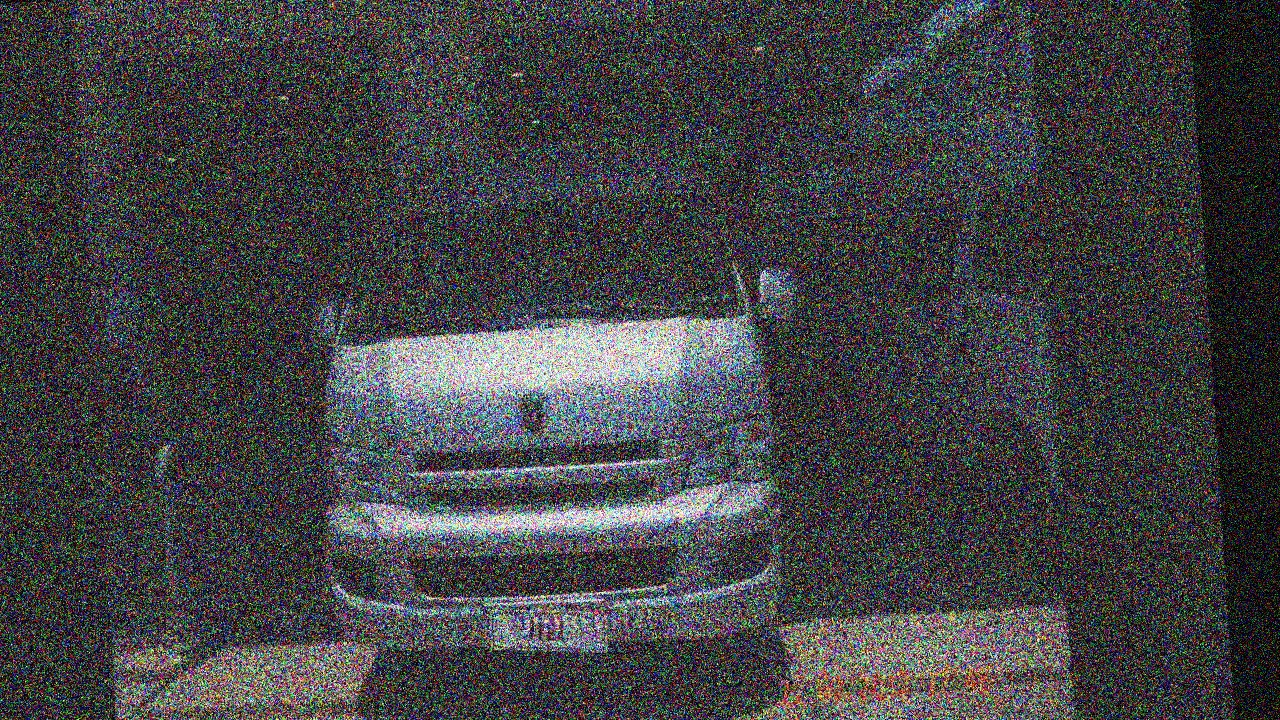van: (291, 118, 832, 705)
